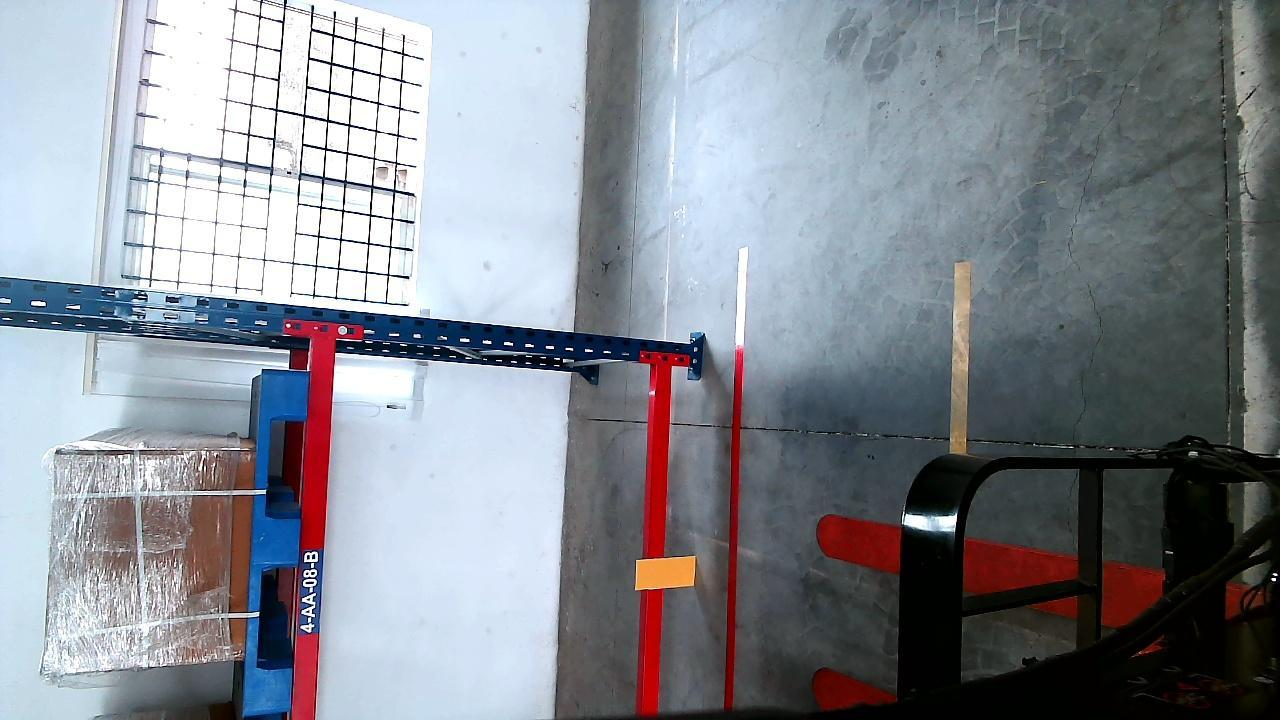red_line: (725, 242, 753, 718)
yellow_line: (950, 261, 971, 451)
